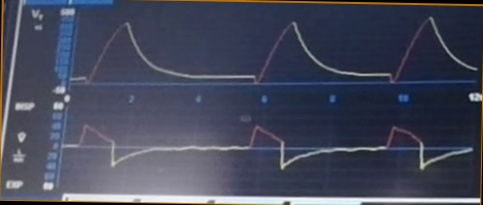Flow: (66, 116, 471, 187)
Leakage Volume: (78, 14, 470, 94)
